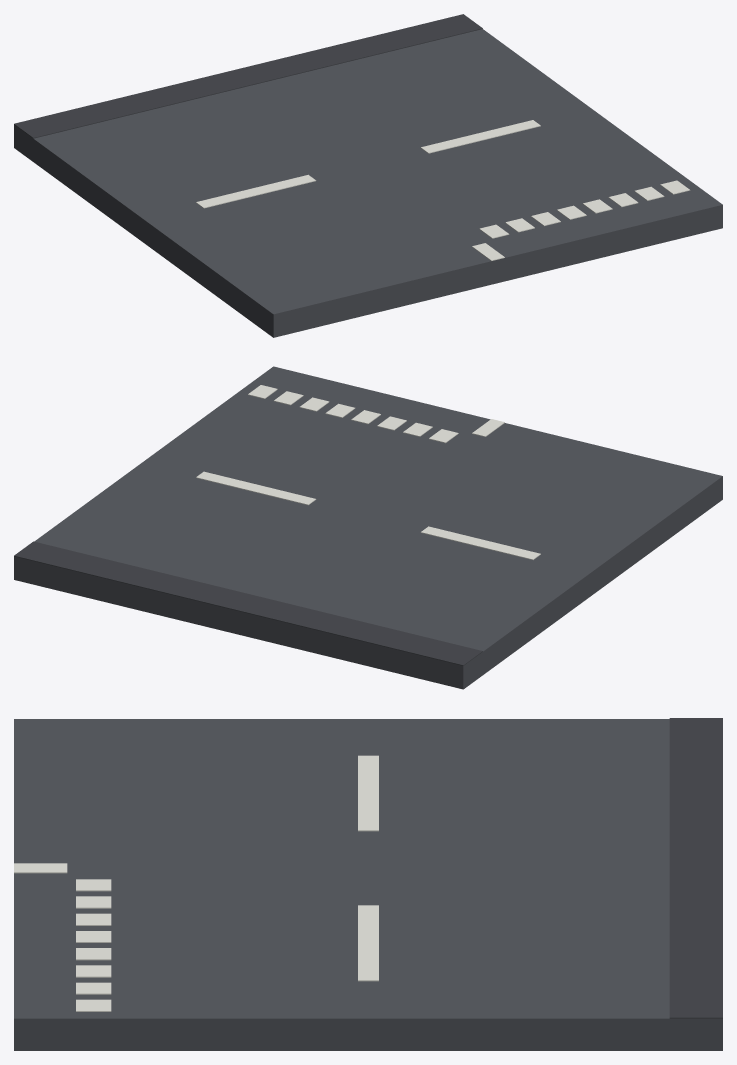
The model's file is Road_T.glb.
3 views of the same model, one above another, from view 1: azimuth 30°, elevation 25°; view 2: azimuth 150°, elevation 25°; view 3: azimuth 270°, elevation 25° (orthographic). The views are drawn at different scales.
Parts seen in each view (by area): view 1: Road_T; view 2: Road_T; view 3: Road_T.
Part boxes in pixels (x1=…): Road_T: x1=14, y1=14, x2=722, y2=337; Road_T: x1=14, y1=366, x2=722, y2=689; Road_T: x1=14, y1=718, x2=722, y2=1050.
Bounding box in the file's own units: 4 × 0.206 × 4.
Materials: 1 (1 with a texture image).
